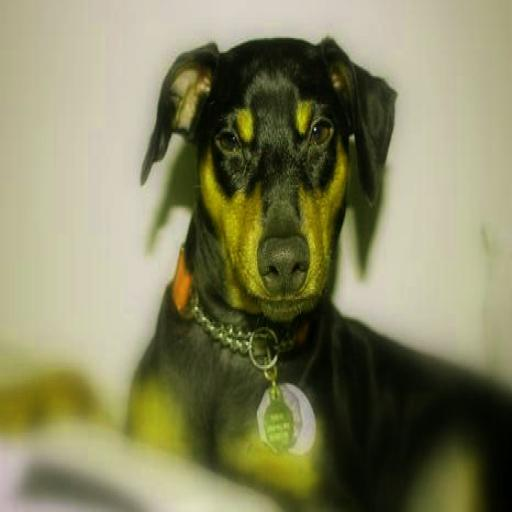dog_face: (134, 29, 400, 311)
